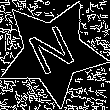N_SE: (24, 21, 81, 83)
